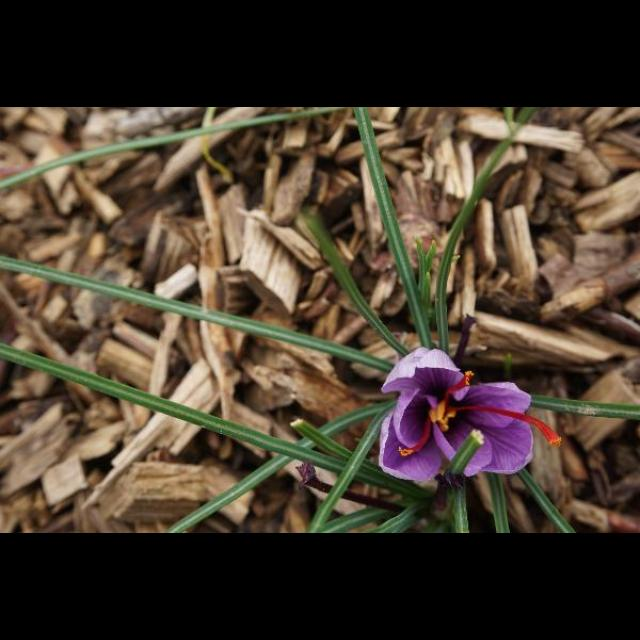flower: (378, 347, 562, 481)
